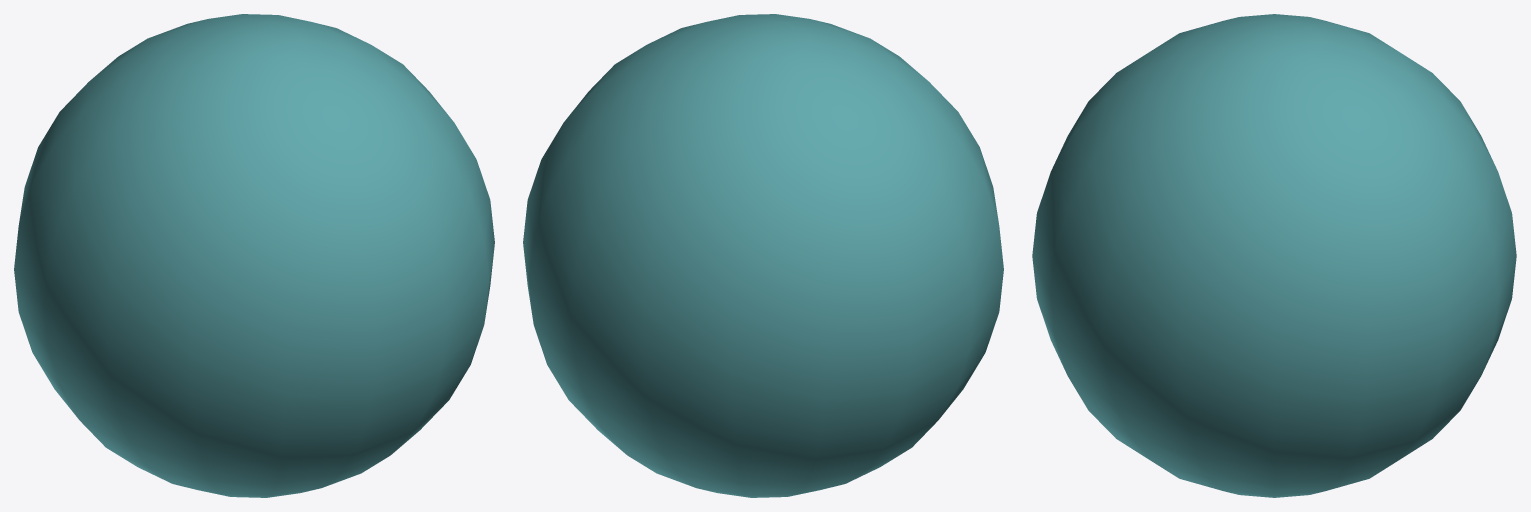
The model's file is MarbleClassic01_Ben.fbx.
3 renders of one model, left to right at view 1: azimuth 30°, elevation 25°; view 2: azimuth 150°, elevation 25°; view 3: azimuth 270°, elevation 25°, orthographic.
Visible parts, largest first — view 1: MarbleClassic; view 2: MarbleClassic; view 3: MarbleClassic.
Part boxes in pixels (box(x1,y1,x2,y2)): MarbleClassic: box(14, 14, 494, 497); MarbleClassic: box(523, 14, 1003, 497); MarbleClassic: box(1032, 14, 1516, 497).
Size of the model in its own units: 4 by 4 by 4.
